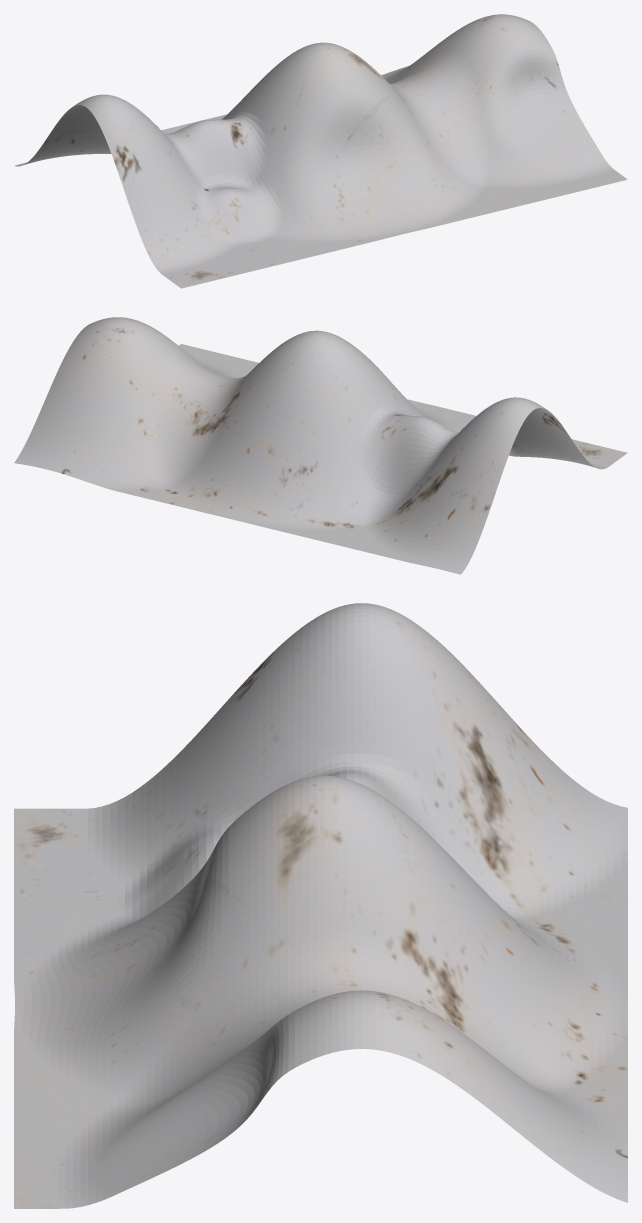
The model's file is Snowmountain.fbx.
3 renders of one model, top to bottom at view 1: azimuth 30°, elevation 25°; view 2: azimuth 150°, elevation 25°; view 3: azimuth 270°, elevation 25°, orthographic. The views are drawn at different scales.
Parts seen in each view (by area): view 1: Plane; view 2: Plane; view 3: Plane.
Boxes of the visible parts, <box> form: Plane: <box>14,14,627,288</box>; Plane: <box>14,317,627,574</box>; Plane: <box>14,603,627,1208</box>.
Bounding box in the file's own units: 800 × 214 × 519.
